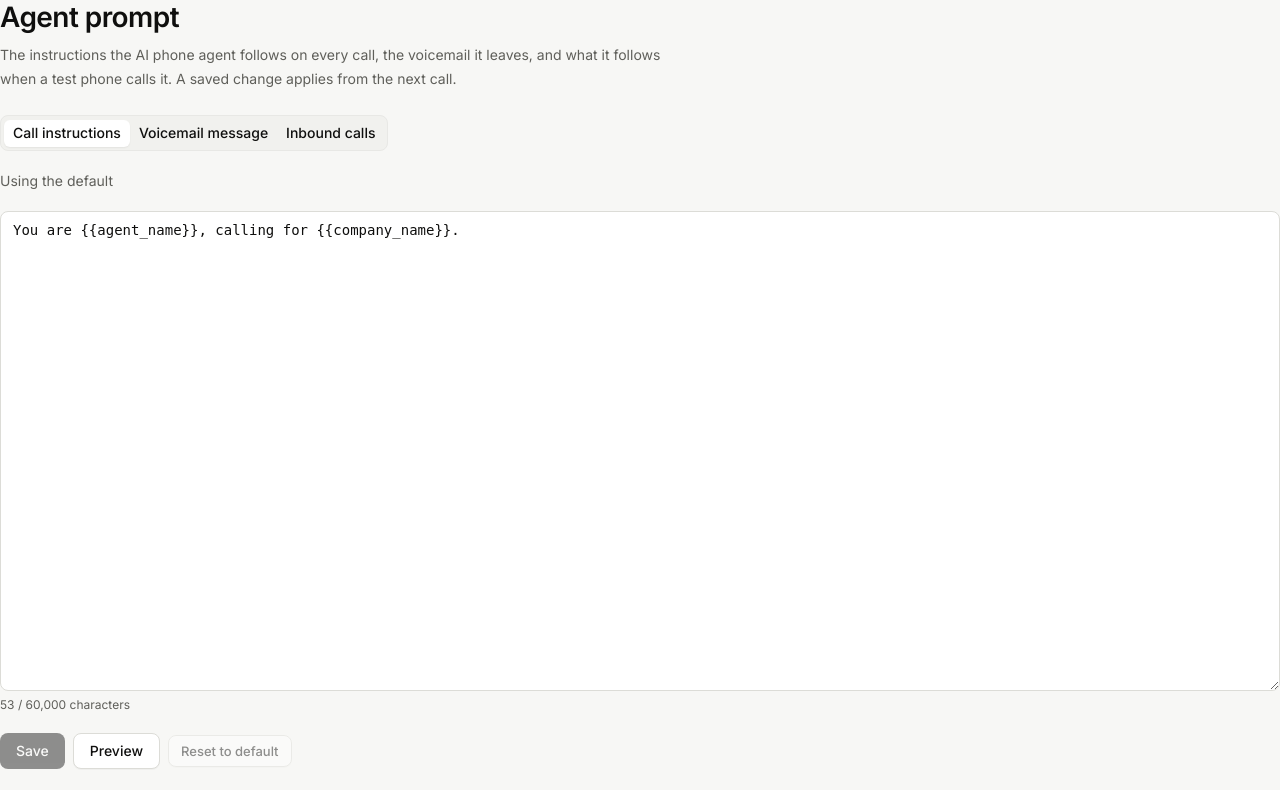
AgentPromptPage › an edit turns Save on; saving sends the text, shows the confirmation, and turns Save off again
This screenshot has width=1280, height=790.
In the text box named "Call instructions": coordinates (640, 451) 0,211 -> 1279,691, type " Keep it short."
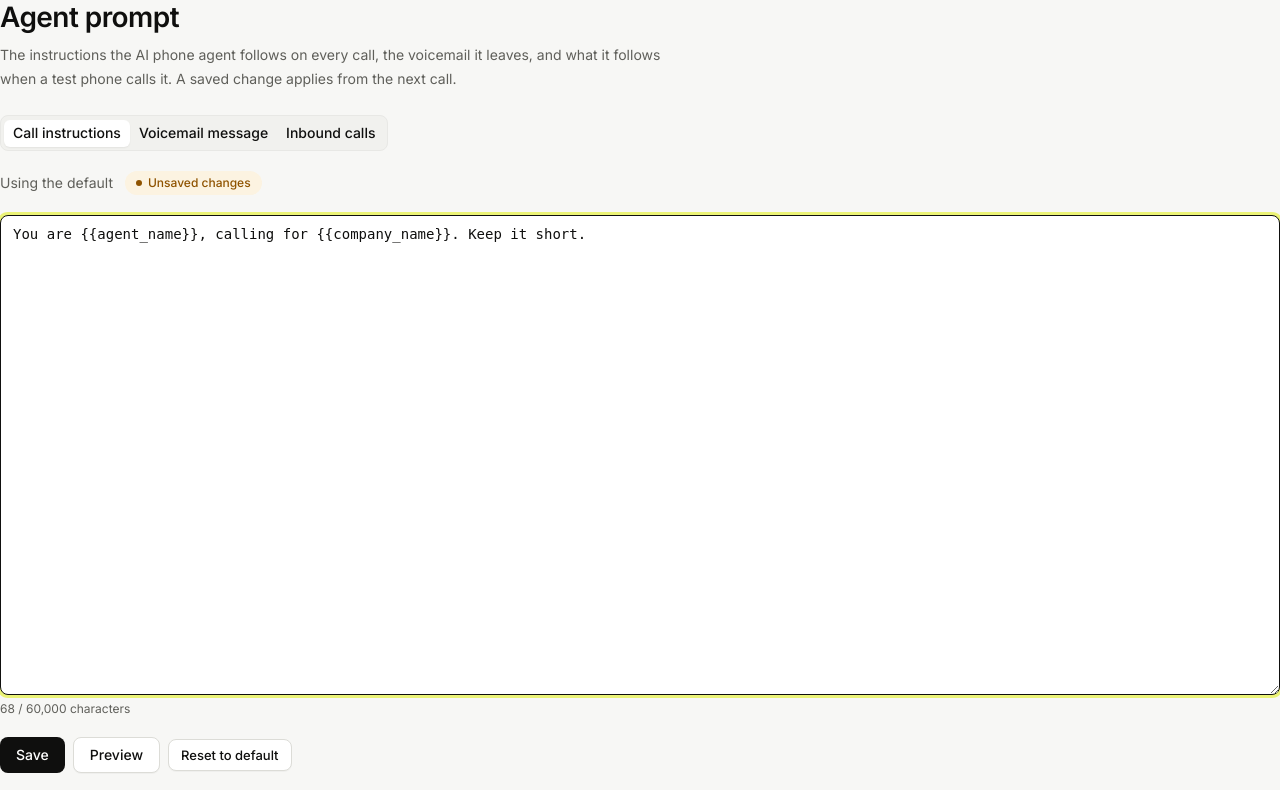
Expected: the button "Save" is enabled
Click the button "Save": coordinates (32, 755) 0,737 -> 65,773
(page scrolled)
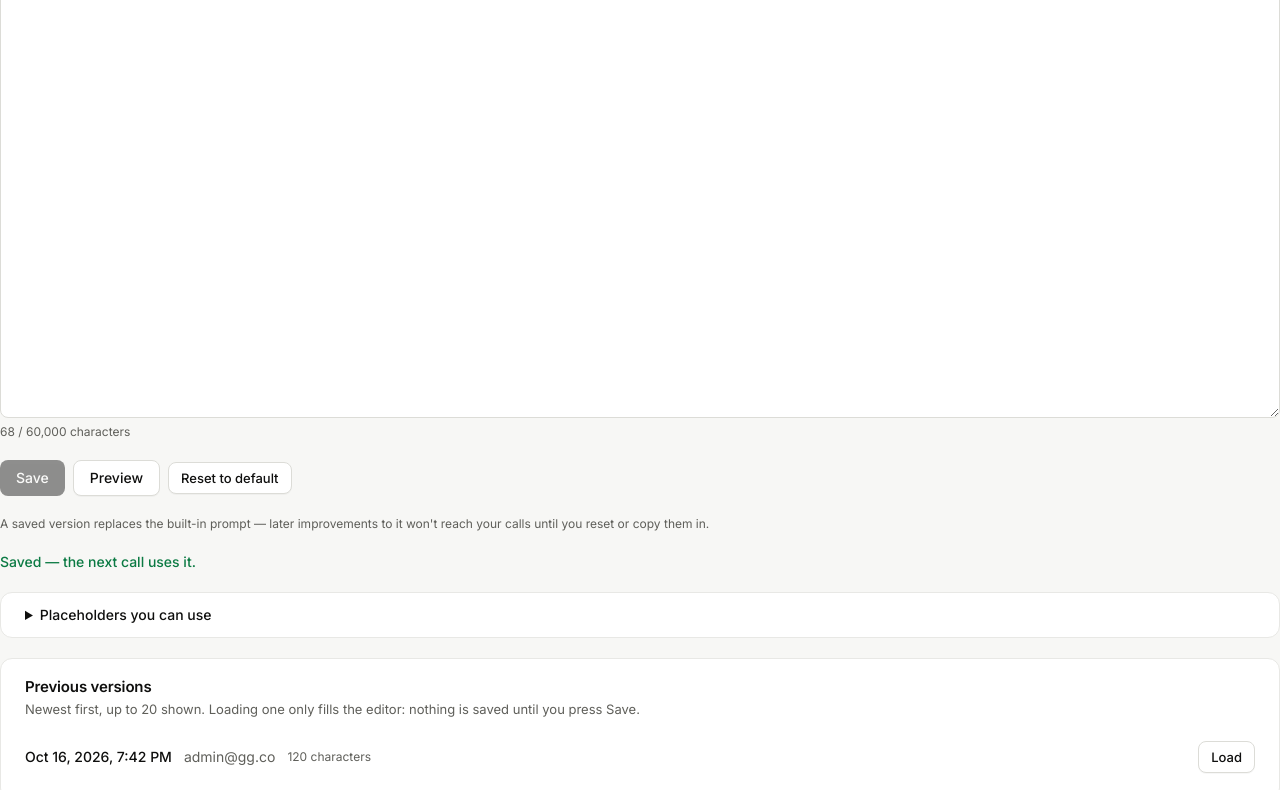
Expected: the text "Saved — the next call uses it." is shown, 0,553 -> 196,570
Expected: the button "Save" is disabled, 0,460 -> 65,496
